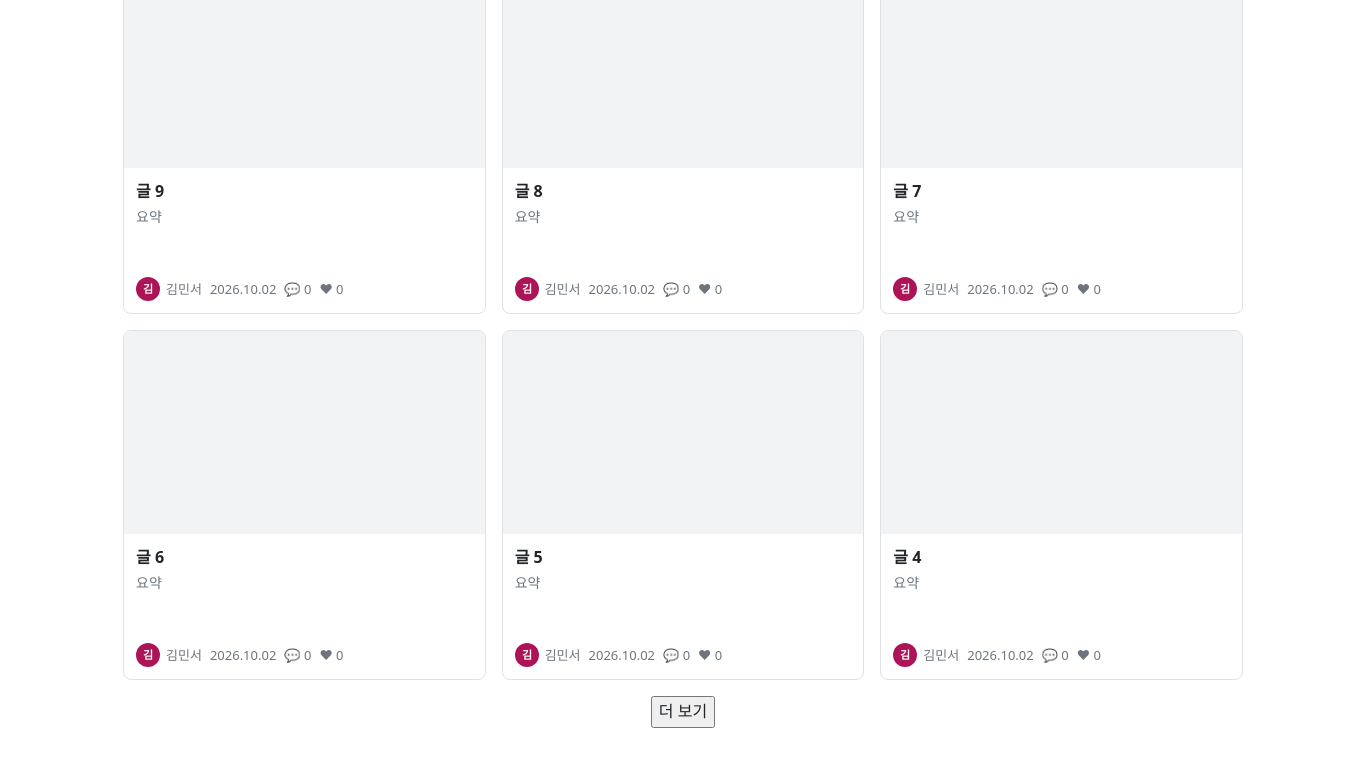
Scenario: TagPage › 머리말 "#spring-boot · 공개 글 12"와 카드 9개, [더 보기]로 이어진다
(page scrolled)
Click the button "더 보기": (683, 712) [651,696,715,728]
(page scrolled)
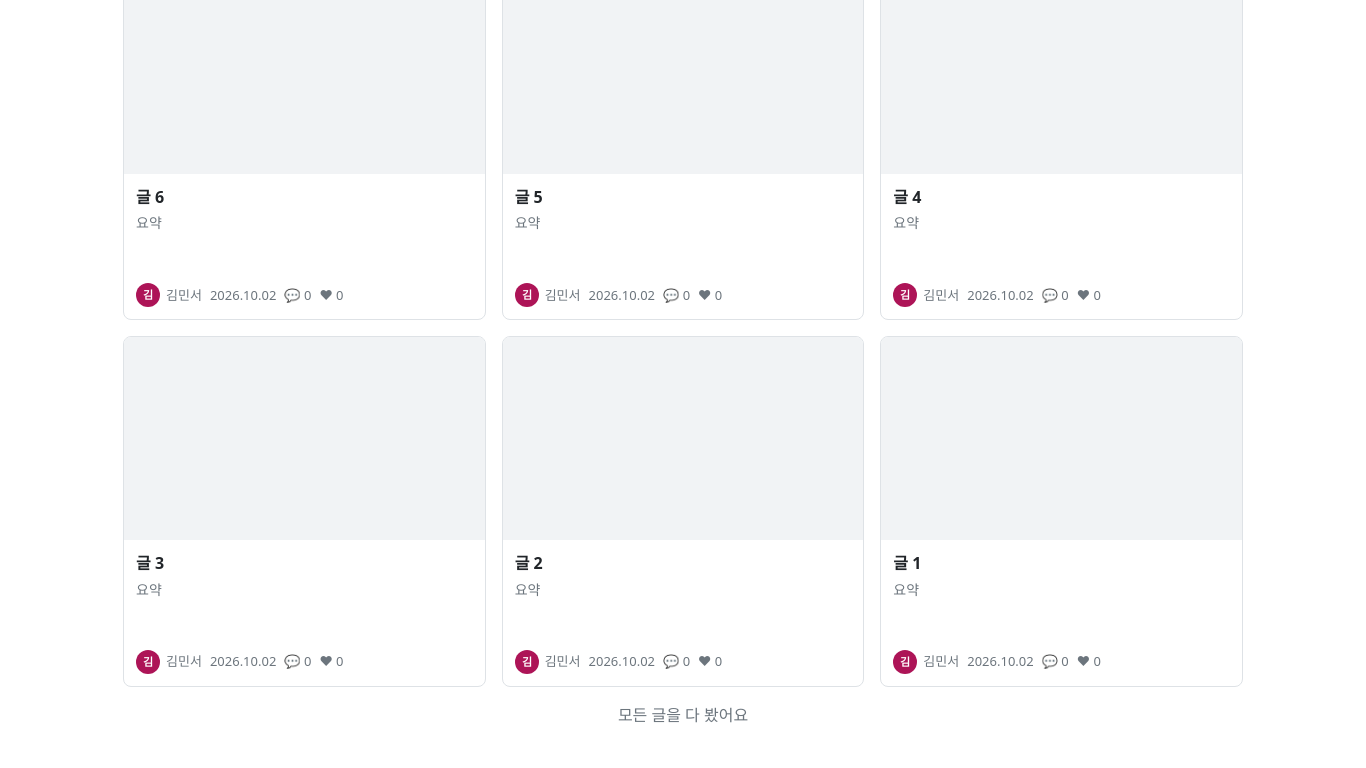
Result: the text "모든 글을 다 봤어요" is shown at [618,704,748,726]
